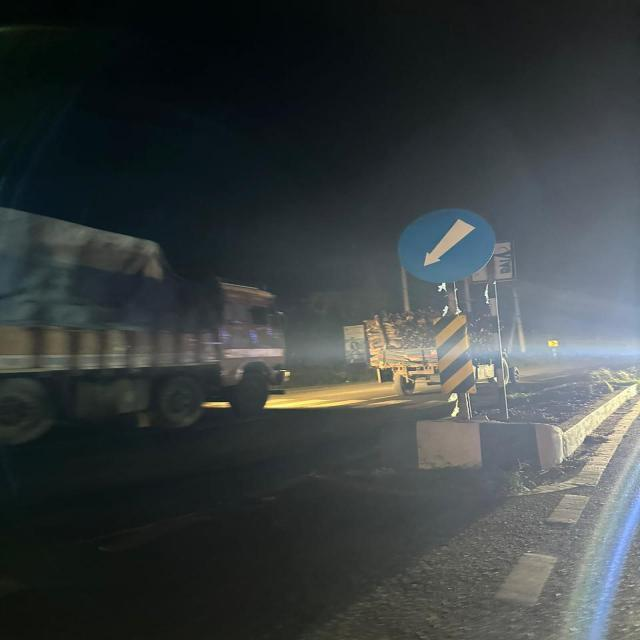compulsary keep left: (397, 207, 497, 282)
